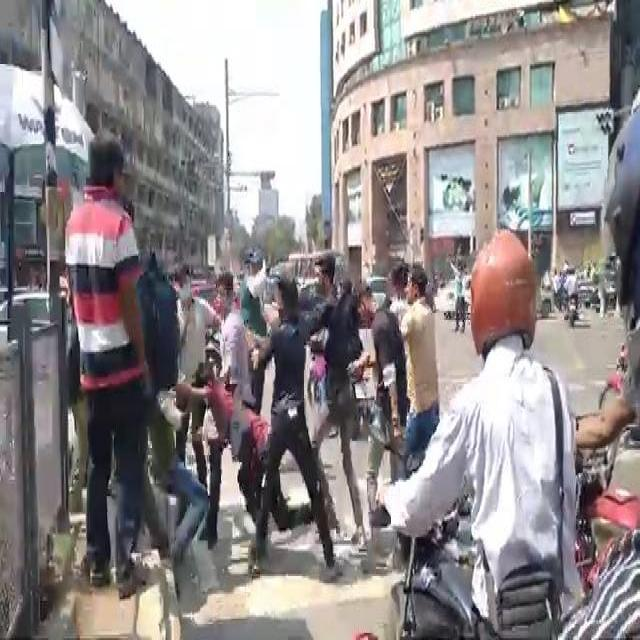fight: (140, 223, 446, 557), (418, 253, 575, 631), (45, 99, 154, 585)
